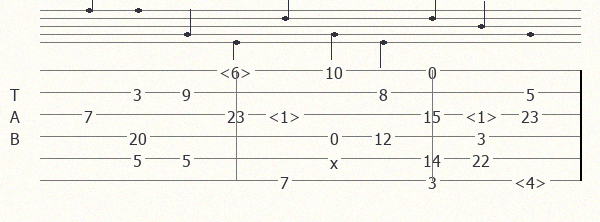0: (330, 128, 343, 144), (428, 62, 441, 78)
10: (325, 62, 347, 78)
12: (374, 128, 396, 144)
14: (423, 150, 445, 166)
15: (423, 106, 445, 122)
20: (129, 128, 151, 144)
22: (472, 150, 494, 166)
23: (227, 106, 249, 122), (521, 106, 543, 122)
3: (133, 84, 146, 100), (428, 172, 441, 188), (477, 128, 490, 144)
5: (133, 150, 146, 166), (182, 150, 195, 166), (526, 84, 539, 100)
7: (84, 106, 97, 122), (280, 172, 293, 188)
8: (379, 84, 392, 100)
9: (182, 84, 195, 100)
harmonic: (219, 62, 256, 78), (268, 106, 305, 122), (465, 106, 502, 122), (514, 172, 551, 188)
x: (330, 152, 342, 165)
